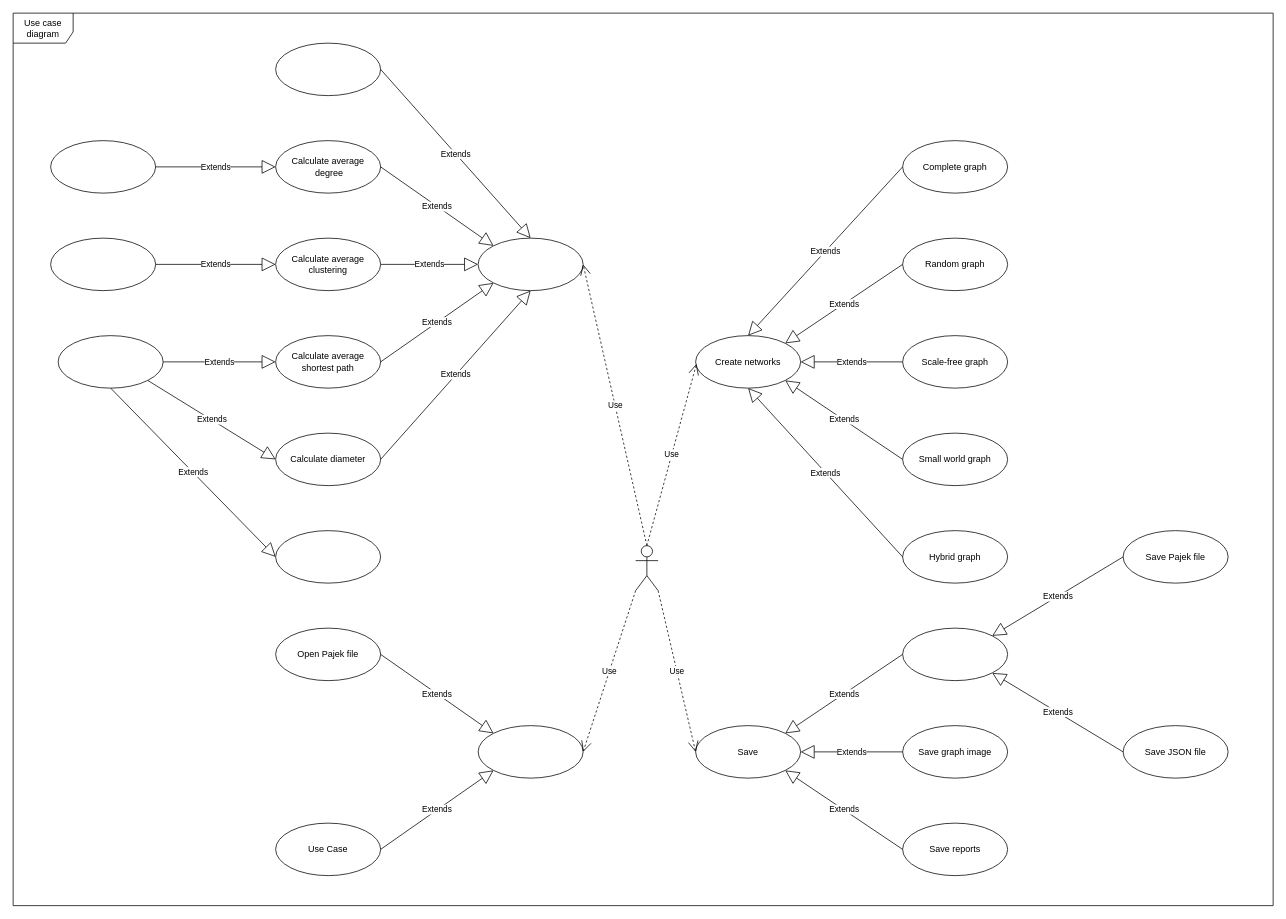
Some shapes in this 1286 by 919 pixel diagram are drawn without their labels. The shapes that lost their labels are listed below. From the top down, each one's box as (x1, y1, x2, y2) in pixels, then its label:
(275, 42, 381, 96): Calculate density
(50, 140, 156, 193): Calculate degrees
(50, 237, 156, 291): Calculate clustering
(477, 237, 583, 291): Calculate properties
(57, 335, 163, 388): Calculate shortest path
(275, 530, 381, 583): Calculate efficiency
(635, 545, 658, 591): Actor
(902, 627, 1008, 681): Save network file
(477, 725, 583, 778): Open file
